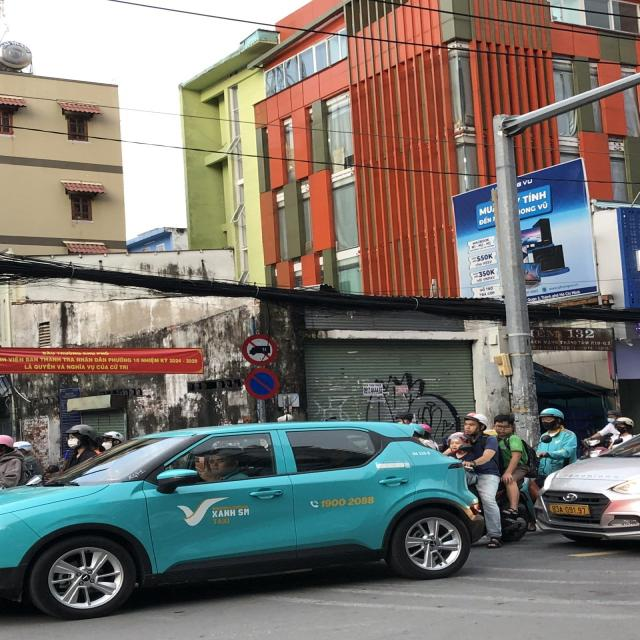Bien bao cam do xe: (244, 366, 282, 401)
Bien bao cam xe oto tai: (241, 333, 279, 366)
